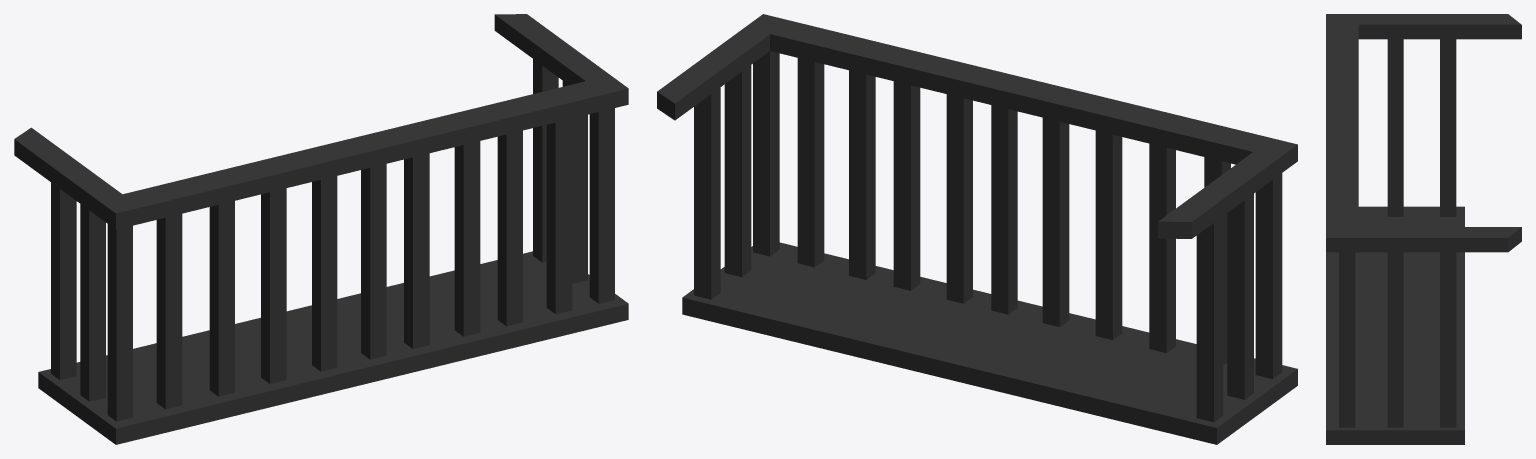
File: B02_gardecorp.fbx
3 renders of one model, left to right at view 1: azimuth 30°, elevation 25°; view 2: azimuth 150°, elevation 25°; view 3: azimuth 270°, elevation 25°, orthographic. The views are drawn at different scales.
Visible parts, largest first — view 1: B02_gardecorp; view 2: B02_gardecorp; view 3: B02_gardecorp.
Part boxes in pixels (x1,y1,x2,y2): B02_gardecorp: (14,14,628,444); B02_gardecorp: (657,14,1297,444); B02_gardecorp: (1326,14,1521,444).
Bounding box in the file's own units: 224 × 96.7 × 82.82.
